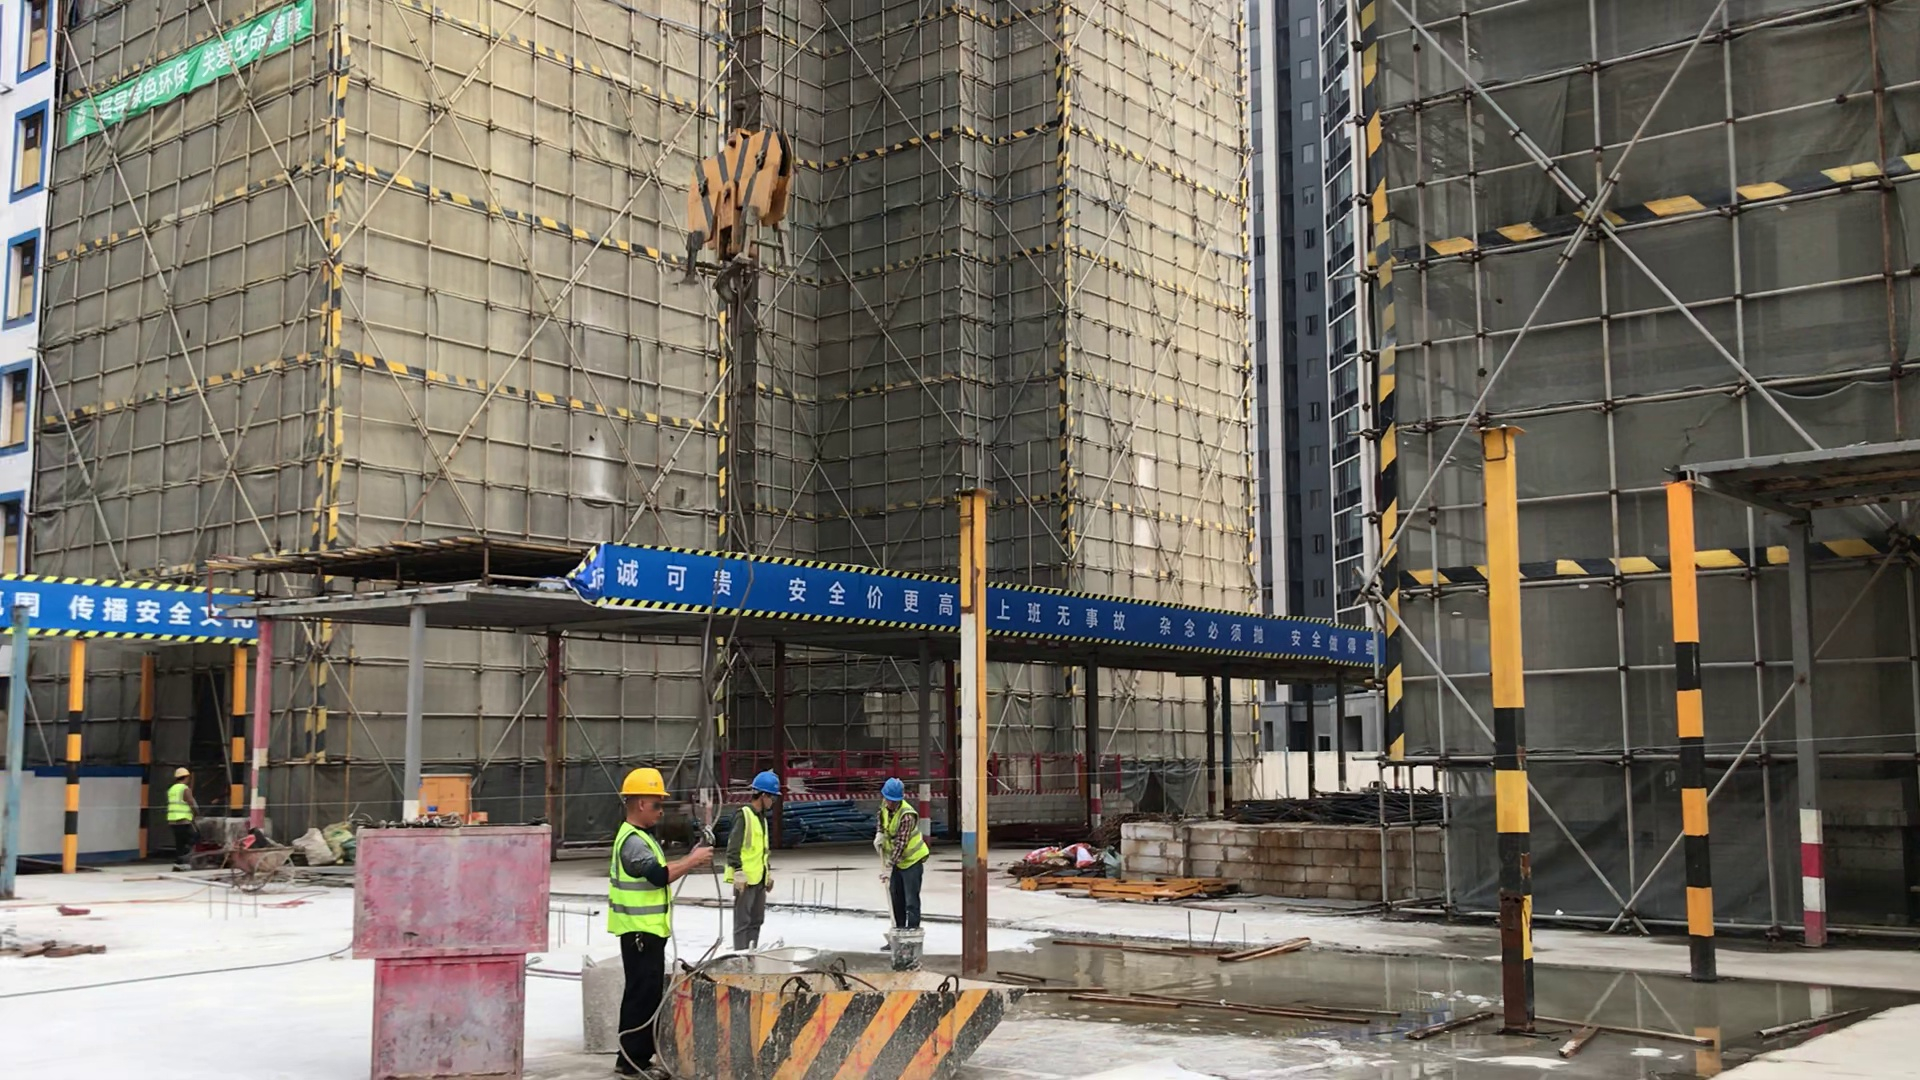brick: (1107, 813, 1459, 902)
ebox: (415, 775, 475, 826)
helmet: (615, 765, 674, 801), (742, 767, 786, 796), (878, 775, 912, 802), (173, 767, 191, 777)
hook: (676, 102, 811, 281)
hopper: (659, 961, 1034, 1080)
person: (581, 753, 718, 1080), (855, 765, 949, 965), (712, 768, 789, 954), (151, 754, 204, 880)
slogan: (600, 544, 1378, 670), (67, 9, 316, 149), (5, 575, 255, 649)
vest: (605, 822, 672, 934), (728, 807, 773, 888), (878, 808, 928, 866), (166, 785, 192, 819)
